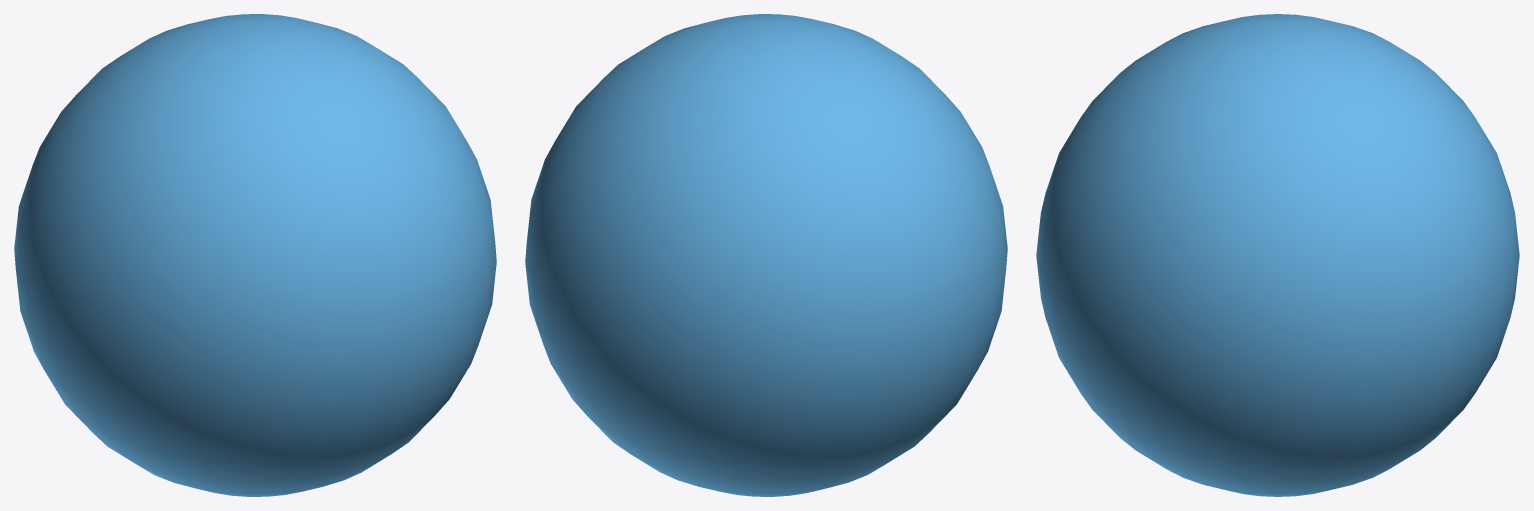
File: young2.glb
3 renders of one model, left to right at view 1: azimuth 30°, elevation 25°; view 2: azimuth 150°, elevation 25°; view 3: azimuth 270°, elevation 25°, orthographic.
Visible parts, largest first — view 1: Sphere; view 2: Sphere; view 3: Sphere.
Boxes of the visible parts, x1,y1,x2,y2 form: Sphere: (14, 14, 496, 496); Sphere: (525, 14, 1007, 496); Sphere: (1036, 14, 1519, 496).
Size of the model in its own units: 4.88 by 4.88 by 4.88.
